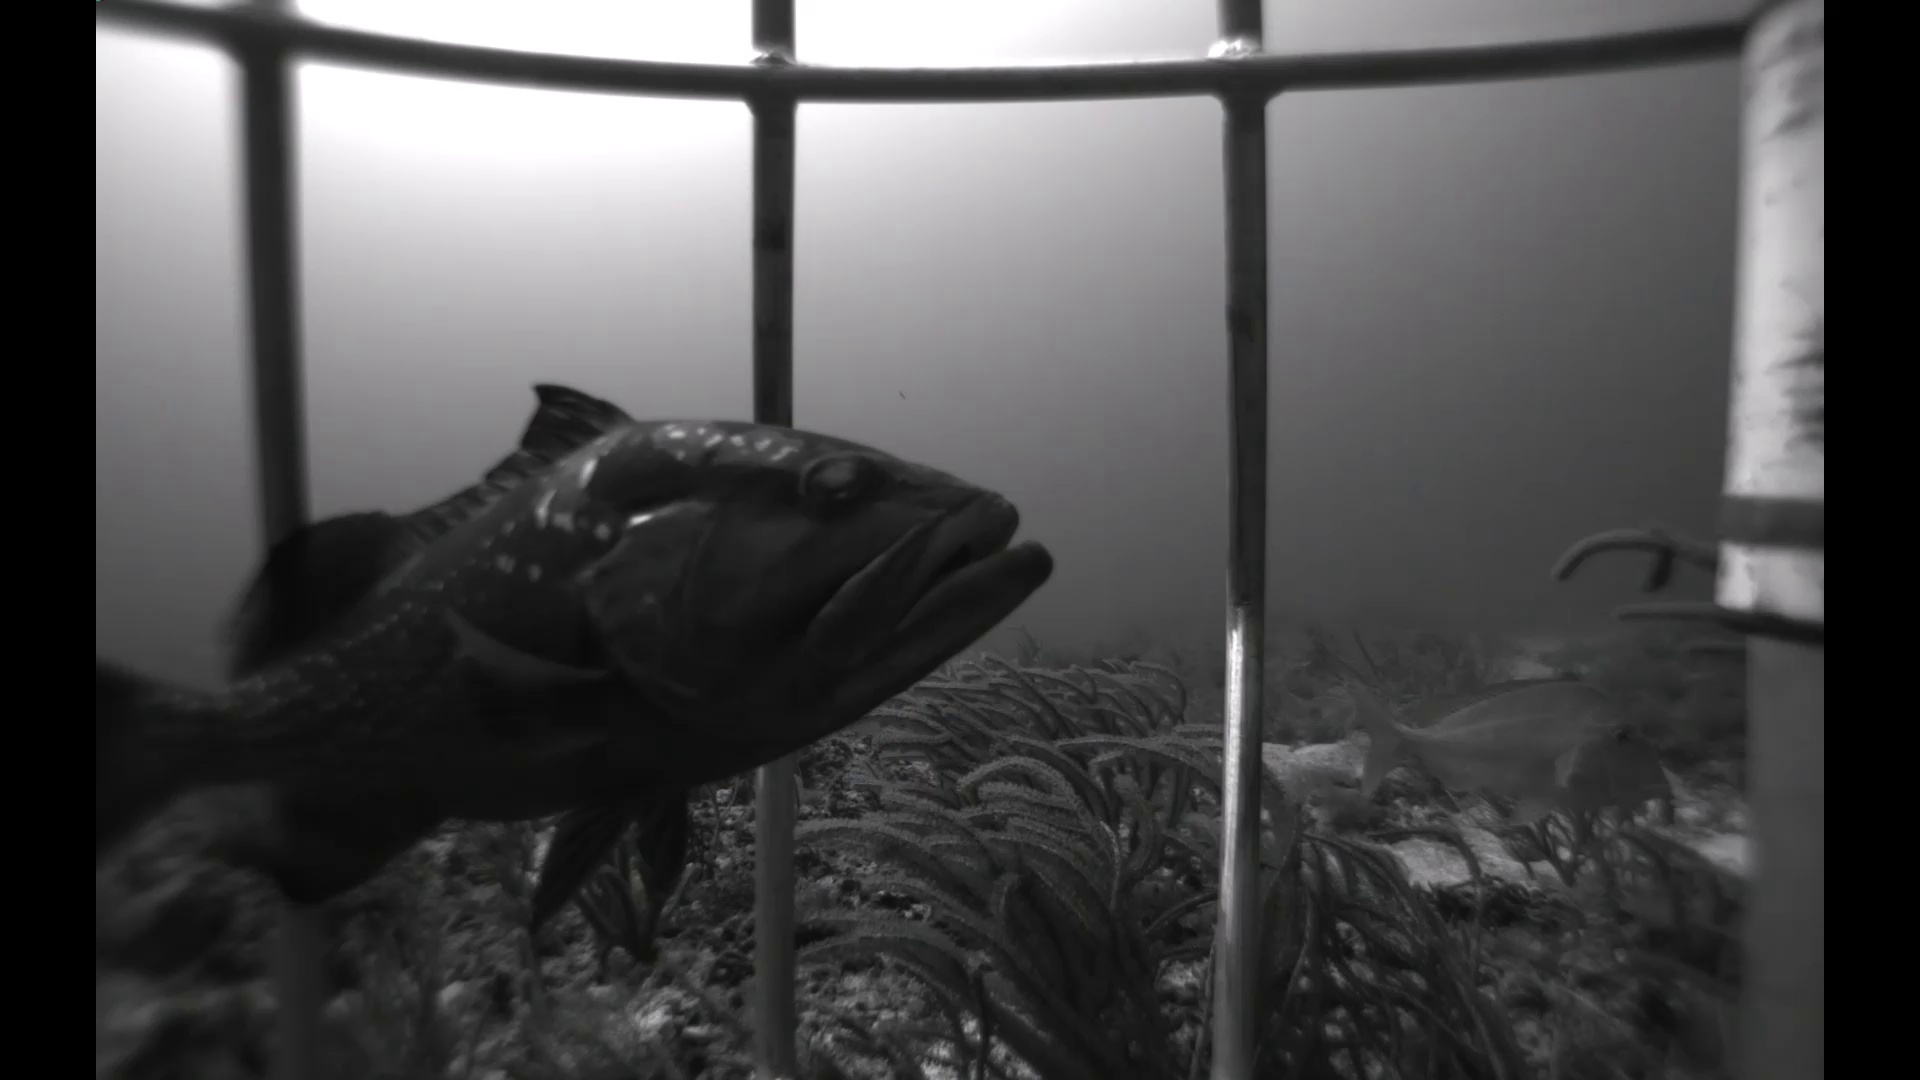CALAMUSNODOSUS-170210608: (1331, 657, 1687, 843)
EPINEPHELUSMORIO-170021211: (96, 378, 1062, 960)
